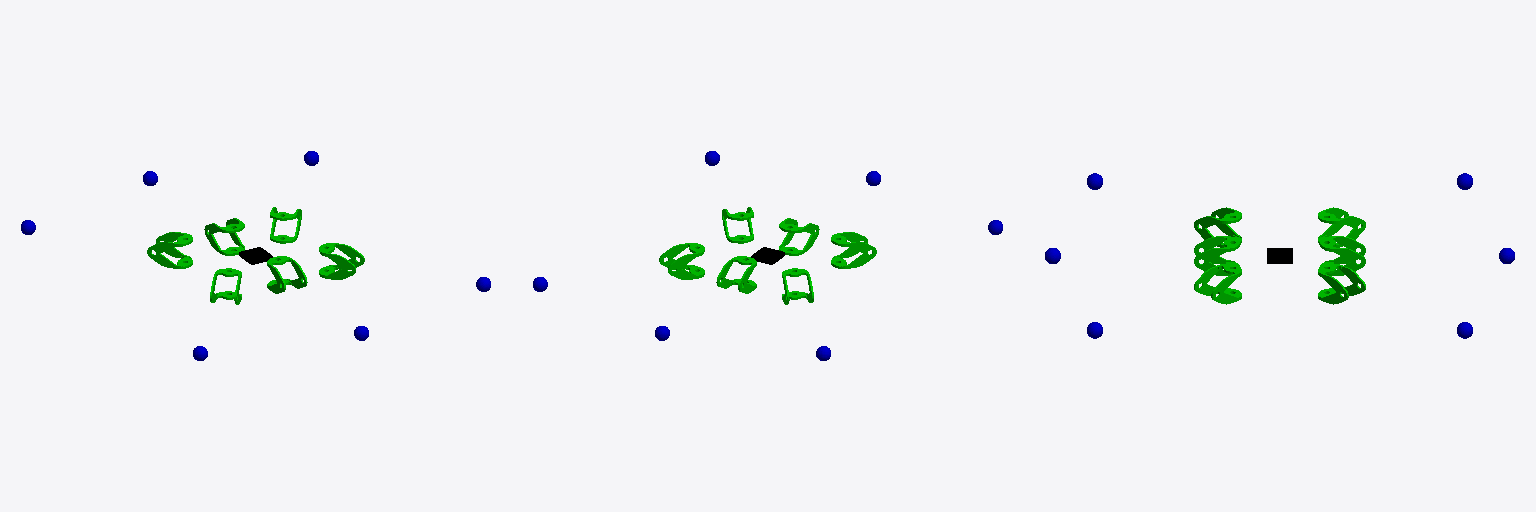
--- Render facts (derived) ---
Views: 3 orthographic renders of the robot side by side, from view 1: azimuth 30°, elevation 25°; view 2: azimuth 150°, elevation 25°; view 3: azimuth 270°, elevation 25°.
Robot: corin — 27 links, 26 joints (19 revolute, 7 fixed); root link world; default pose: every joint at zero.
Visible links, largest first — view 1: lr_hipassembly, rf_hipassembly, rm_hipassembly, lm_hipassembly, lf_hipassembly, rr_hipassembly; view 2: lf_hipassembly, rr_hipassembly, lm_hipassembly, rm_hipassembly, lr_hipassembly, rf_hipassembly; view 3: lf_hipassembly, rf_hipassembly, lm_hipassembly, rm_hipassembly, lr_hipassembly, rr_hipassembly.
Boxes of the visible links, x1,y1,x2,y2 form: lr_hipassembly: [147, 232, 192, 268]; rf_hipassembly: [319, 243, 364, 279]; rm_hipassembly: [267, 256, 307, 293]; lm_hipassembly: [204, 218, 244, 255]; lf_hipassembly: [270, 207, 301, 243]; rr_hipassembly: [210, 268, 241, 304]; lf_hipassembly: [659, 243, 704, 279]; rr_hipassembly: [831, 232, 876, 268]; lm_hipassembly: [716, 256, 756, 293]; rm_hipassembly: [779, 218, 819, 255]; lr_hipassembly: [782, 268, 813, 304]; rf_hipassembly: [722, 207, 753, 243]; lf_hipassembly: [1318, 263, 1365, 304]; rf_hipassembly: [1194, 263, 1241, 304]; lm_hipassembly: [1320, 236, 1365, 275]; rm_hipassembly: [1194, 236, 1239, 275]; lr_hipassembly: [1318, 207, 1365, 247]; rr_hipassembly: [1194, 207, 1241, 247].
Bounding box of the posed robot: 0.7041 × 0.9 × 0.057 m (x, y, z).
6 mesh visuals loaded from 4 distinct referenced files (1 binary STL); not drawn: 13 (reference not matched to a file when rendering).

The robot description file, URDF, robot "corin":
<?xml version="1.0" ?>
<!-- =================================================================================== -->
<!-- |    This document was autogenerated by xacro from mCorin_fixed.urdf.xacro        | -->
<!-- |    EDITING THIS FILE BY HAND IS NOT RECOMMENDED                                 | -->
<!-- =================================================================================== -->
<robot name="corin" xmlns:xacro="http://www.ros.org/wiki/xacro">
  <!-- 160.5 -->
  <!-- Rectangular box: m*(a^2 + b^2)/12 -->
  <material name="black">
    <color rgba="0.0 0.0 0.0 1.0"/>
  </material>
  <material name="blue">
    <color rgba="0.0 0.0 0.8 1.0"/>
  </material>
  <material name="brown">
    <color rgba="0.870588235294 0.811764705882 0.764705882353 1.0"/>
  </material>
  <material name="colli">
    <color rgba="1.0 0.423529411765 0.0392156862745 0.7"/>
  </material>
  <material name="green">
    <color rgba="0.0 0.8 0.0 1.0"/>
  </material>
  <material name="grey">
    <color rgba="0.2 0.2 0.2 1.0"/>
  </material>
  <material name="grey1">
    <color rgba="0.878431372549 0.878431372549 0.878431372549 1.0"/>
  </material>
  <material name="orange">
    <color rgba="1.0 0.423529411765 0.0392156862745 1.0"/>
  </material>
  <material name="red">
    <color rgba="0.8 0.0 0.0 1.0"/>
  </material>
  <material name="transparent">
    <color rgba="0 0 0 0"/>
  </material>
  <material name="turquoise">
    <color rgba="0 0.807843137255 0.819607843137 1.0"/>
  </material>
  <material name="white">
    <color rgba="1.0 1.0 1.0 1.0"/>
  </material>
  <material name="yellow">
    <color rgba="1 1 0 1"/>
  </material>
  <link name="world"/>
  <!-- ================================ Trunk ================================ -->
  <!-- #############  Laser Sensor  ############# -->
  <!-- Noise parameters based on published spec for Hokuyo laser achieving "+-30mm" accuracy at range < 10m. -->
  <!-- A mean of 0.0m and stddev of 0.01m will put 99.7% of samples within 0.03m of the true reading. -->
  <gazebo>
    <plugin filename="libgazebo_ros_control.so" name="gazebo_ros_control">
      <robotNamespace>/corin</robotNamespace>
    </plugin>
    <plugin filename="libgazebo_ros_p3d.so" name="gazebo_ros_p3d">
      <robotNamespace>/corin</robotNamespace>
      <bodyName>trunk</bodyName>
      <topicName>ground_truth</topicName>
      <frameName>world</frameName>
      <xyzOffsets>0 0 0</xyzOffsets>
      <rpyOffsets>0 0 0</rpyOffsets>
      <gaussianNoise>0</gaussianNoise>
      <alwaysOn>true</alwaysOn>
      <updateRate>250.0</updateRate>
    </plugin>
  </gazebo>
  <!-- Now we can start using the macros included above to define the mcorin -->
  <!-- The first use of a macro. This one was defined in trunk.urdf.xacro above.
A macro like this will expand to a set of link and joint definitions, and to additional
Gazebo-related extensions (sensor plugins, etc). The macro takes an argument, name,
that equals "base", and uses it to generate names for its component links and joints
(e.g., base_link). The included origin block is also an argument to the macro. By convention,
the origin block defines where the component is w.r.t its parent (in this case the parent
is the world frame). For more, see http://www.ros.org/wiki/xacro -->
  <!-- Floating-base Joint -->
  <joint name="base_qx_joint" type="revolute">
    <axis xyz="1 0 0"/>
    <origin rpy="0 0 0" xyz="0 0 0.15"/>
    <limit effort="30." lower="-0.001" upper="0.001" velocity="2.0"/>
    <dynamics damping="0.3" friction="0"/>
    <parent link="world"/>
    <child link="trunk"/>
  </joint>
  <!-- Trunk link -->
  <link name="trunk">
    <inertial>
      <origin xyz="0.0 0.0 0.0"/>
      <mass value="1.58"/>
      <inertia ixx="0.00491116666667" ixy="0.0" ixz="0.0" iyy="0.00761033333333" iyz="0.0" izz="0.0112311666667"/>
    </inertial>
    <visual>
      <geometry>
        <mesh filename="package://mcorin_description/meshes/Body.STL" scale="1 1 1"/>
      </geometry>
      <material name="orange"/>
    </visual>
    <collision>
      <geometry>
        <mesh filename="package://mcorin_description/meshes/Body_collision.STL" scale="1 1 1"/>
      </geometry>
      <material name="colli"/>
    </collision>
  </link>
  <gazebo reference="trunk">
    <mu1>1.5</mu1>
    <mu2>1.5</mu2>
    <material>Gazebo/DarkGrey</material>
  </gazebo>
  <transmission name="base_qx_trans">
    <type>transmission_interface/SimpleTransmission</type>
    <joint name="base_qx_joint">
      <hardwareInterface>EffortJointInterface</hardwareInterface>
    </joint>
    <actuator name="base_qx_motor">
      <hardwareInterface>EffortJointInterface</hardwareInterface>
      <mechanicalReduction>200</mechanicalReduction>
    </actuator>
  </transmission>
  <gazebo reference="base_qx_joint">
    <provideFeedback>true</provideFeedback>
  </gazebo>
  <!-- Joints -->
  <!-- Coxa joint -->
  <joint name="lf_q1_joint" type="revolute">
    <origin rpy="0 0 0.872664625997" xyz="0.115 0.09 0"/>
    <parent link="trunk"/>
    <child link="lf_hipassembly"/>
    <axis xyz="0 0 1"/>
    <limit effort="2.85" lower="-1.0" upper="1.0" velocity="5.23"/>
    <dynamics damping="0.15" friction="0"/>
    <!-- <safety_controller k_position="100" k_velocity="100"
							   soft_lower_limit="${-7*PI/18}" soft_upper_limit="${5*PI/36}" /> -->
  </joint>
  <!-- Upper leg joint -->
  <joint name="lf_q2_joint" type="revolute">
    <origin rpy="1.57079632679 0 0" xyz="0.06 0 0"/>
    <parent link="lf_hipassembly"/>
    <child link="lf_upperleg"/>
    <axis xyz="0 0 1"/>
    <limit effort="2.85" lower="-2.22" upper="2.22" velocity="5.23"/>
    <dynamics damping="0.15" friction="0"/>
    <!-- <safety_controller k_position="100" k_velocity="100"
							   soft_lower_limit="${-(1+reflect_front)*5*PI/36-(1-reflect_front)*7*PI/36}"
							   soft_upper_limit="${(1-reflect_front)*5*PI/36+(1+reflect_front)*7*PI/36}" /> -->
  </joint>
  <!-- Lower leg joint -->
  <joint name="lf_q3_joint" type="revolute">
    <origin rpy="0 0 0" xyz="0.15 0 0"/>
    <parent link="lf_upperleg"/>
    <child link="lf_lowerleg"/>
    <axis xyz="0 0 1"/>
    <limit effort="2.85" lower="-2.79" upper="2.79" velocity="5.23"/>
    <dynamics damping="0.15" friction="0"/>
    <!-- <safety_controller k_position="100" k_velocity="100"
							   soft_lower_limit="${-(1+reflect_front)*7*PI/18+(1-reflect_front)*PI/18}"
							   soft_upper_limit="${(1-reflect_front)*7*PI/18-(1+reflect_front)*PI/18}" /> -->
  </joint>
  <!-- Foot joint -->
  <joint name="lf_foot_joint" type="fixed">
    <origin rpy="0 0 0" xyz="0.134 0 0"/>
    <parent link="lf_lowerleg"/>
    <child link="lf_foot"/>
  </joint>
  <!-- Links -->
  <!-- Hip assembly link -->
  <link name="lf_hipassembly">
    <visual>
      <origin rpy="0 0 0" xyz="0 0 0"/>
      <geometry>
        <mesh filename="package://mcorin_description/meshes/Coxa.STL" scale="1 1 1"/>
      </geometry>
      <material name="green"/>
    </visual>
    <collision>
      <origin rpy="0 0 0" xyz="0 0 0"/>
      <geometry>
        <mesh filename="package://mcorin_description/meshes/Coxa_collision.STL" scale="1 1 1"/>
      </geometry>
      <material name="orange"/>
    </collision>
    <inertial>
      <origin xyz="0.02471 0 0"/>
      <mass value="0.0406"/>
      <inertia ixx="3.8e-05" ixy="0.0" ixz="0.0" iyy="3.8e-05" iyz="0.0" izz="4e-05"/>
    </inertial>
  </link>
  <!-- Upper leg link -->
  <link name="lf_upperleg">
    <visual>
      <geometry>
        <mesh filename="package://mcorin_description/meshes/Femur.STL" scale="1 1 1"/>
      </geometry>
      <origin rpy="0 0 0" xyz="0 0 0"/>
      <material name="blue"/>
    </visual>
    <collision>
      <geometry>
        <box size="0.15 0.04 0.04"/>
      </geometry>
      <origin rpy="0 0 0" xyz="0.075 0 0"/>
      <material name="colli"/>
    </collision>
    <inertial>
      <mass value="0.35"/>
      <inertia ixx="1.4e-05" ixy="0" ixz="0" iyy="4.7e-05" iyz="0" izz="5.1e-05"/>
      <origin xyz="0.075 0 0"/>
    </inertial>
  </link>
  <!-- Lower leg link -->
  <link name="lf_lowerleg">
    <visual>
      <geometry>
        <mesh filename="package://mcorin_description/meshes/Tibia.STL" scale="1 1 1"/>
      </geometry>
      <origin rpy="1.57079632679 0 0" xyz="0 0 0"/>
      <material name="yellow"/>
    </visual>
    <collision>
      <geometry>
        <mesh filename="package://mcorin_description/meshes/Tibia_collision.STL" scale="1 1 1"/>
        <!-- <box size= "${tibia_cl} ${tibia_d} ${tibia_w}"/> -->
      </geometry>
      <origin rpy="1.57079632679 0 0" xyz="0.0 0 0"/>
      <material name="colli"/>
    </collision>
    <inertial>
      <mass value="0.076"/>
      <inertia ixx="2.5e-05" ixy="0" ixz="0" iyy="0.000105" iyz="0" izz="0.000117"/>
      <origin xyz="0.0887 0 0"/>
    </inertial>
  </link>
  <!-- Foot link -->
  <link name="lf_foot">
    <visual>
      <geometry>
        <sphere radius="0.016"/>
      </geometry>
      <origin rpy="0 0 0" xyz="0 0 0"/>
      <material name="blue"/>
    </visual>
    <collision>
      <geometry>
        <sphere radius="0.016"/>
      </geometry>
      <origin rpy="0 0 0" xyz="0 0 0"/>
      <material name="colli"/>
    </collision>
    <inertial>
      <mass value="0.04"/>
      <inertia ixx="4e-06" ixy="0" ixz="0" iyy="4e-06" iyz="0" izz="4e-06"/>
      <origin xyz="0 0 0"/>
    </inertial>
  </link>
  <!-- Hip assembly -->
  <transmission name="lf_q1_trans">
    <type>transmission_interface/SimpleTransmission</type>
    <joint name="lf_q1_joint">
      <hardwareInterface>EffortJointInterface</hardwareInterface>
    </joint>
    <actuator name="lf_q1_motor">
      <hardwareInterface>EffortJointInterface</hardwareInterface>
      <mechanicalReduction>200</mechanicalReduction>
    </actuator>
  </transmission>
  <!-- Upper leg -->
  <transmission name="lf_q2_trans">
    <type>transmission_interface/SimpleTransmission</type>
    <joint name="lf_q2_joint">
      <hardwareInterface>EffortJointInterface</hardwareInterface>
    </joint>
    <actuator name="lf_q2_motor">
      <hardwareInterface>EffortJointInterface</hardwareInterface>
      <mechanicalReduction>200</mechanicalReduction>
    </actuator>
  </transmission>
  <!-- Lower leg -->
  <transmission name="lf_q3_trans">
    <type>transmission_interface/SimpleTransmission</type>
    <joint name="lf_q3_joint">
      <hardwareInterface>EffortJointInterface</hardwareInterface>
    </joint>
    <actuator name="lf_q3_motor">
      <hardwareInterface>EffortJointInterface</hardwareInterface>
      <mechanicalReduction>200</mechanicalReduction>
    </actuator>
  </transmission>
  <gazebo reference="lf_q1_joint">
    <provideFeedback>true</provideFeedback>
  </gazebo>
  <gazebo>
    <plugin filename="libgazebo_ros_ft_sensor.so" name="lf_q1_sensor">
      <robotNamespace>/corin/internal_wrench/</robotNamespace>
      <updateRate>100.0</updateRate>
      <topicName>lf_q1_joint</topicName>
      <jointName>lf_q1_joint</jointName>
    </plugin>
  </gazebo>
  <gazebo reference="lf_q2_joint">
    <provideFeedback>true</provideFeedback>
  </gazebo>
  <gazebo>
    <plugin filename="libgazebo_ros_ft_sensor.so" name="lf_q2_sensor">
      <robotNamespace>/corin/internal_wrench/</robotNamespace>
      <updateRate>100.0</updateRate>
      <topicName>lf_q2_joint</topicName>
      <jointName>lf_q2_joint</jointName>
    </plugin>
  </gazebo>
  <gazebo reference="lf_q3_joint">
    <provideFeedback>true</provideFeedback>
  </gazebo>
  <gazebo>
    <plugin filename="libgazebo_ros_ft_sensor.so" name="lf_q3_sensor">
      <robotNamespace>/corin/internal_wrench/</robotNamespace>
      <updateRate>100.0</updateRate>
      <topicName>lf_q3_joint</topicName>
      <jointName>lf_q3_joint</jointName>
    </plugin>
  </gazebo>
  <gazebo reference="lf_hipassembly">
    <kp>1000000.0</kp>
    <kd>100.0</kd>
    <mu1>1.5</mu1>
    <mu2>1.5</mu2>
    <!-- <fdir1>1 0 0</fdir1> -->
    <maxVel>0.001</maxVel>
    <minDepth>0.00</minDepth>
    <material>Gazebo/White</material>
  </gazebo>
  <gazebo reference="lf_upperleg">
    <kp>1000000.0</kp>
    <kd>100.0</kd>
    <mu1>1.5</mu1>
    <mu2>1.5</mu2>
    <!-- <fdir1>1 0 0</fdir1> -->
    <maxVel>0.001</maxVel>
    <minDepth>0.00</minDepth>
    <material>Gazebo/DarkGrey</material>
  </gazebo>
  <gazebo reference="lf_lowerleg">
    <kp>1000000.0</kp>
    <kd>100.0</kd>
    <mu1>1.5</mu1>
    <mu2>1.5</mu2>
    <!-- <fdir1>1 0 0</fdir1> -->
    <maxVel>0.001</maxVel>
    <minDepth>0.00</minDepth>
    <material>Gazebo/White</material>
  </gazebo>
  <gazebo reference="lf_foot">
    <kp>1000000.0</kp>
    <kd>100.0</kd>
    <mu1>1.5</mu1>
    <mu2>1.5</mu2>
    <!-- <fdir1>1 0 0</fdir1> -->
    <maxVel>0.001</maxVel>
    <minDepth>0.00</minDepth>
    <material>Gazebo/Black</material>
  </gazebo>
  <gazebo reference="lf_foot">
    <!-- contact sensor -->
    <sensor name="foot_contact" type="contact">
      <update_rate>100.0</update_rate>
      <always_on>1</always_on>
      <contact>
        <collision>lf_lowerleg_fixed_joint_lump__lf_foot_collision_1</collision>
        <topic>/lf_foot_contact</topic>
      </contact>
      <plugin filename="libgazebo_ros_bumper.so" name="fixed_jaw_bumper">
        <bumperTopicName>/corin/foot_wrench/lf</bumperTopicName>
        <frameName>lf_foot</frameName>
      </plugin>
    </sensor>
  </gazebo>
  <!-- Joints -->
  <!-- Coxa joint -->
  <joint name="lm_q1_joint" type="revolute">
    <origin rpy="0 0 1.57079632679" xyz="0 0.09 0"/>
    <parent link="trunk"/>
    <child link="lm_hipassembly"/>
    <axis xyz="0 0 1"/>
    <limit effort="2.85" lower="-1.0" upper="1.0" velocity="5.23"/>
    <dynamics damping="0.15" friction="0"/>
    <!-- <safety_controller k_position="100" k_velocity="100"
							   soft_lower_limit="${-7*PI/18}" soft_upper_limit="${5*PI/36}" /> -->
  </joint>
  <!-- Upper leg joint -->
  <joint name="lm_q2_joint" type="revolute">
    <origin rpy="1.57079632679 0 0" xyz="0.06 0 0"/>
    <parent link="lm_hipassembly"/>
    <child link="lm_upperleg"/>
    <axis xyz="0 0 1"/>
    <limit effort="2.85" lower="-2.22" upper="2.22" velocity="5.23"/>
    <dynamics damping="0.15" friction="0"/>
    <!-- <safety_controller k_position="100" k_velocity="100"
							   soft_lower_limit="${-(1+reflect_front)*5*PI/36-(1-reflect_front)*7*PI/36}"
							   soft_upper_limit="${(1-reflect_front)*5*PI/36+(1+reflect_front)*7*PI/36}" /> -->
  </joint>
  <!-- Lower leg joint -->
  <joint name="lm_q3_joint" type="revolute">
    <origin rpy="0 0 0" xyz="0.15 0 0"/>
    <parent link="lm_upperleg"/>
    <child link="lm_lowerleg"/>
    <axis xyz="0 0 1"/>
    <limit effort="2.85" lower="-2.79" upper="2.79" velocity="5.23"/>
    <dynamics damping="0.15" friction="0"/>
    <!-- <safety_controller k_position="100" k_velocity="100"
							   soft_lower_limit="${-(1+reflect_front)*7*PI/18+(1-reflect_front)*PI/18}"
							   soft_upper_limit="${(1-reflect_front)*7*PI/18-(1+reflect_front)*PI/18}" /> -->
  </joint>
  <!-- Foot joint -->
  <joint name="lm_foot_joint" type="fixed">
    <origin rpy="0 0 0" xyz="0.134 0 0"/>
    <parent link="lm_lowerleg"/>
    <child link="lm_foot"/>
  </joint>
  <!-- Links -->
  <!-- Hip assembly link -->
  <link name="lm_hipassembly">
    <visual>
      <origin rpy="0 0 0" xyz="0 0 0"/>
      <geometry>
        <mesh filename="package://mcorin_description/meshes/Coxa.STL" scale="1 1 1"/>
      </geometry>
      <material name="green"/>
    </visual>
    <collision>
      <origin rpy="0 0 0" xyz="0 0 0"/>
      <geometry>
        <mesh filename="package://mcorin_description/meshes/Coxa_collision.STL" scale="1 1 1"/>
      </geometry>
      <material name="orange"/>
    </collision>
    <inertial>
      <origin xyz="0.02471 0 0"/>
      <mass value="0.0406"/>
      <inertia ixx="3.8e-05" ixy="0.0" ixz="0.0" iyy="3.8e-05" iyz="0.0" izz="4e-05"/>
    </inertial>
  </link>
  <!-- Upper leg link -->
  <link name="lm_upperleg">
    <visual>
      <geometry>
        <mesh filename="package://mcorin_description/meshes/Femur.STL" scale="1 1 1"/>
      </geometry>
      <origin rpy="0 0 0" xyz="0 0 0"/>
      <material name="blue"/>
    </visual>
    <collision>
      <geometry>
        <box size="0.15 0.04 0.04"/>
      </geometry>
      <origin rpy="0 0 0" xyz="0.075 0 0"/>
      <material name="colli"/>
    </collision>
    <inertial>
      <mass value="0.35"/>
      <inertia ixx="1.4e-05" ixy="0" ixz="0" iyy="4.7e-05" iyz="0" izz="5.1e-05"/>
      <origin xyz="0.075 0 0"/>
    </inertial>
  </link>
  <!-- Lower leg link -->
  <link name="lm_lowerleg">
    <visual>
      <geometry>
        <mesh filename="package://mcorin_description/meshes/Tibia.STL" scale="1 1 1"/>
      </geometry>
      <origin rpy="1.57079632679 0 0" xyz="0 0 0"/>
      <material name="yellow"/>
    </visual>
    <collision>
      <geometry>
        <mesh filename="package://mcorin_description/meshes/Tibia_collision.STL" scale="1 1 1"/>
        <!-- <box size= "${tibia_cl} ${tibia_d} ${tibia_w}"/> -->
      </geometry>
      <origin rpy="1.57079632679 0 0" xyz="0.0 0 0"/>
      <material name="colli"/>
    </collision>
    <inertial>
      <mass value="0.076"/>
      <inertia ixx="2.5e-05" ixy="0" ixz="0" iyy="0.000105" iyz="0" izz="0.000117"/>
      <origin xyz="0.0887 0 0"/>
    </inertial>
  </link>
  <!-- Foot link -->
  <link name="lm_foot">
    <visual>
      <geometry>
        <sphere radius="0.016"/>
      </geometry>
      <origin rpy="0 0 0" xyz="0 0 0"/>
      <material name="blue"/>
    </visual>
    <collision>
      <geometry>
        <sphere radius="0.016"/>
      </geometry>
      <origin rpy="0 0 0" xyz="0 0 0"/>
      <material name="colli"/>
    </collision>
    <inertial>
      <mass value="0.04"/>
      <inertia ixx="4e-06" ixy="0" ixz="0" iyy="4e-06" iyz="0" izz="4e-06"/>
      <origin xyz="0 0 0"/>
    </inertial>
  </link>
  <!-- Hip assembly -->
  <transmission name="lm_q1_trans">
    <type>transmission_interface/SimpleTransmission</type>
    <joint name="lm_q1_joint">
      <hardwareInterface>EffortJointInterface</hardwareInterface>
    </joint>
    <actuator name="lm_q1_motor">
      <hardwareInterface>EffortJointInterface</hardwareInterface>
      <mechanicalReduction>200</mechanicalReduction>
    </actuator>
  </transmission>
  <!-- Upper leg -->
  <transmission name="lm_q2_trans">
    <type>transmission_interface/SimpleTransmission</type>
    <joint name="lm_q2_joint">
      <hardwareInterface>EffortJointInterface</hardwareInterface>
    </joint>
    <actuator name="lm_q2_motor">
      <hardwareInterface>EffortJointInterface</hardwareInterface>
      <mechanicalReduction>200</mechanicalReduction>
    </actuator>
  </transmission>
  <!-- Lower leg -->
  <transmission name="lm_q3_trans">
    <type>transmission_interface/SimpleTransmission</type>
    <joint name="lm_q3_joint">
      <hardwareInterface>EffortJointInterface</hardwareInterface>
    </joint>
    <actuator name="lm_q3_motor">
      <hardwareInterface>EffortJointInterface</hardwareInterface>
      <mechanicalReduction>200</mechanicalReduction>
    </actuator>
  </transmission>
  <gazebo reference="lm_q1_joint">
    <provideFeedback>true</provideFeedback>
  </gazebo>
  <gazebo reference="lm_q2_joint">
    <provideFeedback>true</provideFeedback>
  </gazebo>
  <gazebo reference="lm_q3_joint">
    <provideFeedback>true</provideFeedback>
  </gazebo>
  <gazebo reference="lm_hipassembly">
    <kp>1000000.0</kp>
    <kd>100.0</kd>
    <mu1>1.5</mu1>
    <mu2>1.5</mu2>
    <!-- <fdir1>1 0 0</fdir1> -->
    <maxVel>0.001</maxVel>
    <minDepth>0.00</minDepth>
    <material>Gazebo/White</material>
  </gazebo>
  <gazebo reference="lm_upperleg">
    <kp>1000000.0</kp>
    <kd>100.0</kd>
    <mu1>1.5</mu1>
    <mu2>1.5</mu2>
    <!-- <fdir1>1 0 0</fdir1> -->
    <maxVel>0.001</maxVel>
    <minDepth>0.00</minDepth>
    <material>Gazebo/DarkGrey</material>
  </gazebo>
  <gazebo reference="lm_lowerleg">
    <kp>1000000.0</kp>
    <kd>100.0</kd>
    <mu1>1.5</mu1>
    <mu2>1.5</mu2>
    <!-- <fdir1>1 0 0</fdir1> -->
    <maxVel>0.001</maxVel>
    <minDepth>0.00</minDepth>
    <material>Gazebo/White</material>
  </gazebo>
  <gazebo reference="lm_foot">
    <kp>1000000.0</kp>
    <kd>100.0</kd>
    <mu1>1.5</mu1>
    <mu2>1.5</mu2>
    <!-- <fdir1>1 0 0</fdir1> -->
    <maxVel>0.001</maxVel>
    <minDepth>0.00</minDepth>
    <material>Gazebo/Black</material>
  </gazebo>
  <gazebo reference="lm_foot">
    <!-- contact sensor -->
    <sensor name="foot_contact" type="contact">
      <update_rate>100.0</update_rate>
      <always_on>1</always_on>
      <contact>
        <collision>lm_lowerleg_fixed_joint_lump__lm_foot_collision_1</collision>
        <topic>/lm_foot_contact</topic>
      </contact>
      <plugin filename="libgazebo_ros_bumper.so" name="fixed_jaw_bumper">
        <bumperTopicName>/corin/foot_wrench/lm</bumperTopicName>
        <frameName>lm_foot</frameName>
      </plugin>
    </sensor>
  </gazebo>
  <!-- Joints -->
  <!-- Coxa joint -->
  <joint name="lr_q1_joint" type="revolute">
    <origin rpy="0 0 2.26892802759" xyz="-0.115 0.09 0"/>
    <parent link="trunk"/>
    <child link="lr_hipassembly"/>
    <axis xyz="0 0 1"/>
    <limit effort="2.85" lower="-1.0" upper="1.0" velocity="5.23"/>
    <dynamics damping="0.15" friction="0"/>
    <!-- <safety_controller k_position="100" k_velocity="100"
							   soft_lower_limit="${-7*PI/18}" soft_upper_limit="${5*PI/36}" /> -->
  </joint>
  <!-- Upper leg joint -->
  <joint name="lr_q2_joint" type="revolute">
    <origin rpy="1.57079632679 0 0" xyz="0.06 0 0"/>
    <parent link="lr_hipassembly"/>
    <child link="lr_upperleg"/>
    <axis xyz="0 0 1"/>
    <limit effort="2.85" lower="-2.22" upper="2.22" velocity="5.23"/>
    <dynamics damping="0.15" friction="0"/>
    <!-- <safety_controller k_position="100" k_velocity="100"
							   soft_lower_limit="${-(1+reflect_front)*5*PI/36-(1-reflect_front)*7*PI/36}"
							   soft_upper_limit="${(1-reflect_front)*5*PI/36+(1+reflect_front)*7*PI/36}" /> -->
  </joint>
  <!-- Lower leg joint -->
  <joint name="lr_q3_joint" type="revolute">
    <origin rpy="0 0 0" xyz="0.15 0 0"/>
    <parent link="lr_upperleg"/>
    <child link="lr_lowerleg"/>
    <axis xyz="0 0 1"/>
    <limit effort="2.85" lower="-2.79" upper="2.79" velocity="5.23"/>
    <dynamics damping="0.15" friction="0"/>
    <!-- <safety_controller k_position="100" k_velocity="100"
							   soft_lower_limit="${-(1+reflect_front)*7*PI/18+(1-reflect_front)*PI/18}"
							   soft_upper_limit="${(1-reflect_front)*7*PI/18-(1+reflect_front)*PI/18}" /> -->
  </joint>
  <!-- Foot joint -->
  <joint name="lr_foot_joint" type="fixed">
    <origin rpy="0 0 0" xyz="0.134 0 0"/>
    <parent link="lr_lowerleg"/>
    <child link="lr_foot"/>
  </joint>
  <!-- Links -->
  <!-- Hip assembly link -->
  <link name="lr_hipassembly">
    <visual>
      <origin rpy="0 0 0" xyz="0 0 0"/>
      <geometry>
        <mesh filename="package://mcorin_description/meshes/Coxa.STL" scale="1 1 1"/>
      </geometry>
      <material name="green"/>
    </visual>
    <collision>
      <origin rpy="0 0 0" xyz="0 0 0"/>
      <geometry>
        <mesh filename="package://mcorin_description/meshes/Coxa_collision.STL" scale="1 1 1"/>
      </geometry>
      <material name="orange"/>
    </collision>
    <inertial>
      <origin xyz="0.02471 0 0"/>
      <mass value="0.0406"/>
      <inertia ixx="3.8e-05" ixy="0.0" ixz="0.0" iyy="3.8e-05" iyz="0.0" izz="4e-05"/>
    </inertial>
  </link>
  <!-- Upper leg link -->
  <link name="lr_upperleg">
    <visual>
      <geometry>
        <mesh filename="package://mcorin_description/meshes/Femur.STL" scale="1 1 1"/>
      </geometry>
      <origin rpy="0 0 0" xyz="0 0 0"/>
      <material name="blue"/>
    </visual>
    <collision>
      <geometry>
        <box size="0.15 0.04 0.04"/>
      </geometry>
      <origin rpy="0 0 0" xyz="0.075 0 0"/>
      <material name="colli"/>
    </collision>
    <inertial>
      <mass value="0.35"/>
      <inertia ixx="1.4e-05" ixy="0" ixz="0" iyy="4.7e-05" iyz="0" izz="5.1e-05"/>
      <origin xyz="0.075 0 0"/>
    </inertial>
  </link>
  <!-- Lower leg link -->
  <link name="lr_lowerleg">
    <visual>
      <geometry>
        <mesh filename="package://mcorin_description/meshes/Tibia.STL" scale="1 1 1"/>
      </geometry>
      <origin rpy="1.57079632679 0 0" xyz="0 0 0"/>
      <material name="yellow"/>
    </visual>
    <collision>
      <geometry>
        <mesh filename="package://mcorin_description/meshes/Tibia_collision.STL" scale="1 1 1"/>
        <!-- <box size= "${tibia_cl} ${tibia_d} ${tibia_w}"/> -->
      </geometry>
      <origin rpy="1.57079632679 0 0" xyz="0.0 0 0"/>
      <material name="colli"/>
    </collision>
    <inertial>
      <mass value="0.076"/>
      <inertia ixx="2.5e-05" ixy="0" ixz="0" iyy="0.000105" iyz="0" izz="0.000117"/>
      <origin xyz="0.0887 0 0"/>
    </inertial>
  </link>
  <!-- Foot link -->
  <link name="lr_foot">
    <visual>
      <geometry>
        <sphere radius="0.016"/>
      </geometry>
      <origin rpy="0 0 0" xyz="0 0 0"/>
      <material name="blue"/>
    </visual>
    <collision>
      <geometry>
        <sphere radius="0.016"/>
      </geometry>
      <origin rpy="0 0 0" xyz="0 0 0"/>
      <material name="colli"/>
    </collision>
    <inertial>
      <mass value="0.04"/>
      <inertia ixx="4e-06" ixy="0" ixz="0" iyy="4e-06" iyz="0" izz="4e-06"/>
      <origin xyz="0 0 0"/>
    </inertial>
  </link>
  <!-- Hip assembly -->
  <transmission name="lr_q1_trans">
    <type>transmission_interface/SimpleTransmission</type>
    <joint name="lr_q1_joint">
      <hardwareInterface>EffortJointInterface</hardwareInterface>
    </joint>
    <actuator name="lr_q1_motor">
      <hardwareInterface>EffortJointInterface</hardwareInterface>
      <mechanicalReduction>200</mechanicalReduction>
    </actuator>
  </transmission>
  <!-- Upper leg -->
  <transmission name="lr_q2_trans">
    <type>transmission_interface/SimpleTransmission</type>
    <joint name="lr_q2_joint">
      <hardwareInterface>EffortJointInterface</hardwareInterface>
    </joint>
    <actuator name="lr_q2_motor">
      <hardwareInterface>EffortJointInterface</hardwareInterface>
      <mechanicalReduction>200</mechanicalReduction>
    </actuator>
  </transmission>
  <!-- Lower leg -->
  <transmission name="lr_q3_trans">
    <type>transmission_interface/SimpleTransmission</type>
    <joint name="lr_q3_joint">
      <hardwareInterface>EffortJointInterface</hardwareInterface>
    </joint>
    <actuator name="lr_q3_motor">
      <hardwareInterface>EffortJointInterface</hardwareInterface>
      <mechanicalReduction>200</mechanicalReduction>
    </actuator>
  </transmission>
  <gazebo reference="lr_q1_joint">
    <provideFeedback>true</provideFeedback>
  </gazebo>
  <gazebo reference="lr_q2_joint">
    <provideFeedback>true</provideFeedback>
  </gazebo>
  <gazebo reference="lr_q3_joint">
    <provideFeedback>true</provideFeedback>
  </gazebo>
  <gazebo reference="lr_hipassembly">
    <kp>1000000.0</kp>
    <kd>100.0</kd>
    <mu1>1.5</mu1>
    <mu2>1.5</mu2>
    <!-- <fdir1>1 0 0</fdir1> -->
    <maxVel>0.001</maxVel>
    <minDepth>0.00</minDepth>
    <material>Gazebo/White</material>
  </gazebo>
  <gazebo reference="lr_upperleg">
    <kp>1000000.0</kp>
    <kd>100.0</kd>
    <mu1>1.5</mu1>
    <mu2>1.5</mu2>
    <!-- <fdir1>1 0 0</fdir1> -->
    <maxVel>0.001</maxVel>
    <minDepth>0.00</minDepth>
    <material>Gazebo/DarkGrey</material>
  </gazebo>
  <gazebo reference="lr_lowerleg">
    <kp>1000000.0</kp>
    <kd>100.0</kd>
    <mu1>1.5</mu1>
    <mu2>1.5</mu2>
    <!-- <fdir1>1 0 0</fdir1> -->
    <maxVel>0.001</maxVel>
    <minDepth>0.00</minDepth>
    <material>Gazebo/White</material>
  </gazebo>
  <gazebo reference="lr_foot">
    <kp>1000000.0</kp>
    <kd>100.0</kd>
    <mu1>1.5</mu1>
    <mu2>1.5</mu2>
    <!-- <fdir1>1 0 0</fdir1> -->
    <maxVel>0.001</maxVel>
    <minDepth>0.00</minDepth>
    <material>Gazebo/Black</material>
  </gazebo>
  <gazebo reference="lr_foot">
    <!-- contact sensor -->
    <sensor name="foot_contact" type="contact">
      <update_rate>100.0</update_rate>
      <always_on>1</always_on>
      <contact>
        <collision>lr_lowerleg_fixed_joint_lump__lr_foot_collision_1</collision>
        <topic>/lr_foot_contact</topic>
      </contact>
      <plugin filename="libgazebo_ros_bumper.so" name="fixed_jaw_bumper">
        <bumperTopicName>/corin/foot_wrench/lr</bumperTopicName>
        <frameName>lr_foot</frameName>
      </plugin>
    </sensor>
  </gazebo>
  <!-- Joints -->
  <!-- Coxa joint -->
  <joint name="rf_q1_joint" type="revolute">
    <origin rpy="0 0 -0.872664625997" xyz="0.115 -0.09 0"/>
    <parent link="trunk"/>
    <child link="rf_hipassembly"/>
    <axis xyz="0 0 1"/>
    <limit effort="2.85" lower="-1.0" upper="1.0" velocity="5.23"/>
    <dynamics damping="0.15" friction="0"/>
    <!-- <safety_controller k_position="100" k_velocity="100"
							   soft_lower_limit="${-7*PI/18}" soft_upper_limit="${5*PI/36}" /> -->
  </joint>
  <!-- Upper leg joint -->
  <joint name="rf_q2_joint" type="revolute">
    <origin rpy="1.57079632679 0 0" xyz="0.06 0 0"/>
    <parent link="rf_hipassembly"/>
    <child link="rf_upperleg"/>
    <axis xyz="0 0 1"/>
    <limit effort="2.85" lower="-2.22" upper="2.22" velocity="5.23"/>
    <dynamics damping="0.15" friction="0"/>
    <!-- <safety_controller k_position="100" k_velocity="100"
							   soft_lower_limit="${-(1+reflect_front)*5*PI/36-(1-reflect_front)*7*PI/36}"
							   soft_upper_limit="${(1-reflect_front)*5*PI/36+(1+reflect_front)*7*PI/36}" /> -->
  </joint>
  <!-- Lower leg joint -->
  <joint name="rf_q3_joint" type="revolute">
    <origin rpy="0 0 0" xyz="0.15 0 0"/>
    <parent link="rf_upperleg"/>
    <child link="rf_lowerleg"/>
    <axis xyz="0 0 1"/>
    <limit effort="2.85" lower="-2.79" upper="2.79" velocity="5.23"/>
    <dynamics damping="0.15" friction="0"/>
    <!-- <safety_controller k_position="100" k_velocity="100"
							   soft_lower_limit="${-(1+reflect_front)*7*PI/18+(1-reflect_front)*PI/18}"
							   soft_upper_limit="${(1-reflect_front)*7*PI/18-(1+reflect_front)*PI/18}" /> -->
  </joint>
  <!-- Foot joint -->
  <joint name="rf_foot_joint" type="fixed">
    <origin rpy="0 0 0" xyz="0.134 0 0"/>
    <parent link="rf_lowerleg"/>
    <child link="rf_foot"/>
  </joint>
  <!-- Links -->
  <!-- Hip assembly link -->
  <link name="rf_hipassembly">
    <visual>
      <origin rpy="0 0 0" xyz="0 0 0"/>
      <geometry>
        <mesh filename="package://mcorin_description/meshes/Coxa.STL" scale="1 1 1"/>
      </geometry>
      <material name="green"/>
    </visual>
    <collision>
      <origin rpy="0 0 0" xyz="0 0 0"/>
      <geometry>
        <mesh filename="package://mcorin_description/meshes/Coxa_collision.STL" scale="1 1 1"/>
      </geometry>
      <material name="orange"/>
    </collision>
    <inertial>
      <origin xyz="0.02471 0 0"/>
      <mass value="0.0406"/>
      <inertia ixx="3.8e-05" ixy="0.0" ixz="0.0" iyy="3.8e-05" iyz="0.0" izz="4e-05"/>
    </inertial>
  </link>
  <!-- Upper leg link -->
  <link name="rf_upperleg">
    <visual>
      <geometry>
        <mesh filename="package://mcorin_description/meshes/Femur.STL" scale="1 1 1"/>
      </geometry>
      <origin rpy="0 0 0" xyz="0 0 0"/>
      <material name="blue"/>
    </visual>
    <collision>
      <geometry>
        <box size="0.15 0.04 0.04"/>
      </geometry>
      <origin rpy="0 0 0" xyz="0.075 0 0"/>
      <material name="colli"/>
    </collision>
    <inertial>
      <mass value="0.35"/>
      <inertia ixx="1.4e-05" ixy="0" ixz="0" iyy="4.7e-05" iyz="0" izz="5.1e-05"/>
      <origin xyz="0.075 0 0"/>
    </inertial>
  </link>
  <!-- Lower leg link -->
  <link name="rf_lowerleg">
    <visual>
      <geometry>
        <mesh filename="package://mcorin_description/meshes/Tibia.STL" scale="1 1 1"/>
      </geometry>
      <origin rpy="1.57079632679 0 0" xyz="0 0 0"/>
      <material name="yellow"/>
    </visual>
    <collision>
      <geometry>
        <mesh filename="package://mcorin_description/meshes/Tibia_collision.STL" scale="1 1 1"/>
        <!-- <box size= "${tibia_cl} ${tibia_d} ${tibia_w}"/> -->
      </geometry>
      <origin rpy="1.57079632679 0 0" xyz="0.0 0 0"/>
      <material name="colli"/>
    </collision>
    <inertial>
      <mass value="0.076"/>
      <inertia ixx="2.5e-05" ixy="0" ixz="0" iyy="0.000105" iyz="0" izz="0.000117"/>
      <origin xyz="0.0887 0 0"/>
    </inertial>
  </link>
  <!-- Foot link -->
  <link name="rf_foot">
    <visual>
      <geometry>
        <sphere radius="0.016"/>
      </geometry>
      <origin rpy="0 0 0" xyz="0 0 0"/>
      <material name="blue"/>
    </visual>
    <collision>
      <geometry>
        <sphere radius="0.016"/>
      </geometry>
      <origin rpy="0 0 0" xyz="0 0 0"/>
      <material name="colli"/>
    </collision>
    <inertial>
      <mass value="0.04"/>
      <inertia ixx="4e-06" ixy="0" ixz="0" iyy="4e-06" iyz="0" izz="4e-06"/>
      <origin xyz="0 0 0"/>
    </inertial>
  </link>
  <!-- Hip assembly -->
  <transmission name="rf_q1_trans">
    <type>transmission_interface/SimpleTransmission</type>
    <joint name="rf_q1_joint">
      <hardwareInterface>EffortJointInterface</hardwareInterface>
    </joint>
    <actuator name="rf_q1_motor">
      <hardwareInterface>EffortJointInterface</hardwareInterface>
      <mechanicalReduction>200</mechanicalReduction>
    </actuator>
  </transmission>
  <!-- Upper leg -->
  <transmission name="rf_q2_trans">
    <type>transmission_interface/SimpleTransmission</type>
    <joint name="rf_q2_joint">
      <hardwareInterface>EffortJointInterface</hardwareInterface>
    </joint>
    <actuator name="rf_q2_motor">
      <hardwareInterface>EffortJointInterface</hardwareInterface>
      <mechanicalReduction>200</mechanicalReduction>
    </actuator>
  </transmission>
  <!-- Lower leg -->
  <transmission name="rf_q3_trans">
    <type>transmission_interface/SimpleTransmission</type>
    <joint name="rf_q3_joint">
      <hardwareInterface>EffortJointInterface</hardwareInterface>
    </joint>
    <actuator name="rf_q3_motor">
      <hardwareInterface>EffortJointInterface</hardwareInterface>
      <mechanicalReduction>200</mechanicalReduction>
    </actuator>
  </transmission>
  <gazebo reference="rf_q1_joint">
    <provideFeedback>true</provideFeedback>
  </gazebo>
  <gazebo>
    <plugin filename="libgazebo_ros_ft_sensor.so" name="rf_q1_sensor">
      <robotNamespace>/corin/internal_wrench/</robotNamespace>
      <updateRate>100.0</updateRate>
      <topicName>rf_q1_joint</topicName>
      <jointName>rf_q1_joint</jointName>
    </plugin>
  </gazebo>
  <gazebo reference="rf_q2_joint">
    <provideFeedback>true</provideFeedback>
  </gazebo>
  <gazebo>
    <plugin filename="libgazebo_ros_ft_sensor.so" name="rf_q2_sensor">
      <robotNamespace>/corin/internal_wrench/</robotNamespace>
      <updateRate>100.0</updateRate>
      <topicName>rf_q2_joint</topicName>
      <jointName>rf_q2_joint</jointName>
    </plugin>
  </gazebo>
  <gazebo reference="rf_q3_joint">
    <provideFeedback>true</provideFeedback>
  </gazebo>
  <gazebo>
    <plugin filename="libgazebo_ros_ft_sensor.so" name="rf_q3_sensor">
      <robotNamespace>/corin/internal_wrench/</robotNamespace>
      <updateRate>100.0</updateRate>
      <topicName>rf_q3_joint</topicName>
      <jointName>rf_q3_joint</jointName>
    </plugin>
  </gazebo>
  <gazebo reference="rf_hipassembly">
    <kp>1000000.0</kp>
    <kd>100.0</kd>
    <mu1>1.5</mu1>
    <mu2>1.5</mu2>
    <!-- <fdir1>1 0 0</fdir1> -->
    <maxVel>0.001</maxVel>
    <minDepth>0.00</minDepth>
    <material>Gazebo/White</material>
  </gazebo>
  <gazebo reference="rf_upperleg">
    <kp>1000000.0</kp>
    <kd>100.0</kd>
    <mu1>1.5</mu1>
    <mu2>1.5</mu2>
    <!-- <fdir1>1 0 0</fdir1> -->
    <maxVel>0.001</maxVel>
    <minDepth>0.00</minDepth>
    <material>Gazebo/DarkGrey</material>
  </gazebo>
  <gazebo reference="rf_lowerleg">
    <kp>1000000.0</kp>
    <kd>100.0</kd>
    <mu1>1.5</mu1>
    <mu2>1.5</mu2>
    <!-- <fdir1>1 0 0</fdir1> -->
    <maxVel>0.001</maxVel>
    <minDepth>0.00</minDepth>
    <material>Gazebo/White</material>
  </gazebo>
  <gazebo reference="rf_foot">
    <kp>1000000.0</kp>
    <kd>100.0</kd>
    <mu1>1.5</mu1>
    <mu2>1.5</mu2>
    <!-- <fdir1>1 0 0</fdir1> -->
    <maxVel>0.001</maxVel>
    <minDepth>0.00</minDepth>
    <material>Gazebo/Black</material>
  </gazebo>
  <gazebo reference="rf_foot">
    <!-- contact sensor -->
    <sensor name="foot_contact" type="contact">
      <update_rate>100.0</update_rate>
      <always_on>1</always_on>
      <contact>
        <collision>rf_lowerleg_fixed_joint_lump__rf_foot_collision_1</collision>
        <topic>/rf_foot_contact</topic>
      </contact>
      <plugin filename="libgazebo_ros_bumper.so" name="fixed_jaw_bumper">
        <bumperTopicName>/corin/foot_wrench/rf</bumperTopicName>
        <frameName>rf_foot</frameName>
      </plugin>
    </sensor>
  </gazebo>
  <!-- Joints -->
  <!-- Coxa joint -->
  <joint name="rm_q1_joint" type="revolute">
    <origin rpy="0 0 -1.57079632679" xyz="0 -0.09 0"/>
    <parent link="trunk"/>
    <child link="rm_hipassembly"/>
    <axis xyz="0 0 1"/>
    <limit effort="2.85" lower="-1.0" upper="1.0" velocity="5.23"/>
    <dynamics damping="0.15" friction="0"/>
    <!-- <safety_controller k_position="100" k_velocity="100"
							   soft_lower_limit="${-7*PI/18}" soft_upper_limit="${5*PI/36}" /> -->
  </joint>
  <!-- Upper leg joint -->
  <joint name="rm_q2_joint" type="revolute">
    <origin rpy="1.57079632679 0 0" xyz="0.06 0 0"/>
    <parent link="rm_hipassembly"/>
    <child link="rm_upperleg"/>
    <axis xyz="0 0 1"/>
    <limit effort="2.85" lower="-2.22" upper="2.22" velocity="5.23"/>
    <dynamics damping="0.15" friction="0"/>
    <!-- <safety_controller k_position="100" k_velocity="100"
							   soft_lower_limit="${-(1+reflect_front)*5*PI/36-(1-reflect_front)*7*PI/36}"
							   soft_upper_limit="${(1-reflect_front)*5*PI/36+(1+reflect_front)*7*PI/36}" /> -->
  </joint>
  <!-- Lower leg joint -->
  <joint name="rm_q3_joint" type="revolute">
    <origin rpy="0 0 0" xyz="0.15 0 0"/>
    <parent link="rm_upperleg"/>
    <child link="rm_lowerleg"/>
    <axis xyz="0 0 1"/>
    <limit effort="2.85" lower="-2.79" upper="2.79" velocity="5.23"/>
    <dynamics damping="0.15" friction="0"/>
    <!-- <safety_controller k_position="100" k_velocity="100"
							   soft_lower_limit="${-(1+reflect_front)*7*PI/18+(1-reflect_front)*PI/18}"
							   soft_upper_limit="${(1-reflect_front)*7*PI/18-(1+reflect_front)*PI/18}" /> -->
  </joint>
  <!-- Foot joint -->
  <joint name="rm_foot_joint" type="fixed">
    <origin rpy="0 0 0" xyz="0.134 0 0"/>
    <parent link="rm_lowerleg"/>
    <child link="rm_foot"/>
  </joint>
  <!-- Links -->
  <!-- Hip assembly link -->
  <link name="rm_hipassembly">
    <visual>
      <origin rpy="0 0 0" xyz="0 0 0"/>
      <geometry>
        <mesh filename="package://mcorin_description/meshes/Coxa.STL" scale="1 1 1"/>
      </geometry>
      <material name="green"/>
    </visual>
    <collision>
      <origin rpy="0 0 0" xyz="0 0 0"/>
      <geometry>
        <mesh filename="package://mcorin_description/meshes/Coxa_collision.STL" scale="1 1 1"/>
      </geometry>
      <material name="orange"/>
    </collision>
    <inertial>
      <origin xyz="0.02471 0 0"/>
      <mass value="0.0406"/>
      <inertia ixx="3.8e-05" ixy="0.0" ixz="0.0" iyy="3.8e-05" iyz="0.0" izz="4e-05"/>
    </inertial>
  </link>
  <!-- Upper leg link -->
  <link name="rm_upperleg">
    <visual>
      <geometry>
        <mesh filename="package://mcorin_description/meshes/Femur.STL" scale="1 1 1"/>
      </geometry>
      <origin rpy="0 0 0" xyz="0 0 0"/>
      <material name="blue"/>
    </visual>
    <collision>
      <geometry>
        <box size="0.15 0.04 0.04"/>
      </geometry>
      <origin rpy="0 0 0" xyz="0.075 0 0"/>
      <material name="colli"/>
    </collision>
    <inertial>
      <mass value="0.35"/>
      <inertia ixx="1.4e-05" ixy="0" ixz="0" iyy="4.7e-05" iyz="0" izz="5.1e-05"/>
      <origin xyz="0.075 0 0"/>
    </inertial>
  </link>
  <!-- Lower leg link -->
  <link name="rm_lowerleg">
    <visual>
      <geometry>
        <mesh filename="package://mcorin_description/meshes/Tibia.STL" scale="1 1 1"/>
      </geometry>
      <origin rpy="1.57079632679 0 0" xyz="0 0 0"/>
      <material name="yellow"/>
    </visual>
    <collision>
      <geometry>
        <mesh filename="package://mcorin_description/meshes/Tibia_collision.STL" scale="1 1 1"/>
        <!-- <box size= "${tibia_cl} ${tibia_d} ${tibia_w}"/> -->
      </geometry>
      <origin rpy="1.57079632679 0 0" xyz="0.0 0 0"/>
      <material name="colli"/>
    </collision>
    <inertial>
      <mass value="0.076"/>
      <inertia ixx="2.5e-05" ixy="0" ixz="0" iyy="0.000105" iyz="0" izz="0.000117"/>
      <origin xyz="0.0887 0 0"/>
    </inertial>
  </link>
  <!-- Foot link -->
  <link name="rm_foot">
    <visual>
      <geometry>
        <sphere radius="0.016"/>
      </geometry>
      <origin rpy="0 0 0" xyz="0 0 0"/>
      <material name="blue"/>
    </visual>
    <collision>
      <geometry>
        <sphere radius="0.016"/>
      </geometry>
      <origin rpy="0 0 0" xyz="0 0 0"/>
      <material name="colli"/>
    </collision>
    <inertial>
      <mass value="0.04"/>
      <inertia ixx="4e-06" ixy="0" ixz="0" iyy="4e-06" iyz="0" izz="4e-06"/>
      <origin xyz="0 0 0"/>
    </inertial>
  </link>
  <!-- Hip assembly -->
  <transmission name="rm_q1_trans">
    <type>transmission_interface/SimpleTransmission</type>
    <joint name="rm_q1_joint">
      <hardwareInterface>EffortJointInterface</hardwareInterface>
    </joint>
    <actuator name="rm_q1_motor">
      <hardwareInterface>EffortJointInterface</hardwareInterface>
      <mechanicalReduction>200</mechanicalReduction>
    </actuator>
  </transmission>
  <!-- Upper leg -->
  <transmission name="rm_q2_trans">
    <type>transmission_interface/SimpleTransmission</type>
    <joint name="rm_q2_joint">
      <hardwareInterface>EffortJointInterface</hardwareInterface>
    </joint>
    <actuator name="rm_q2_motor">
      <hardwareInterface>EffortJointInterface</hardwareInterface>
      <mechanicalReduction>200</mechanicalReduction>
    </actuator>
  </transmission>
  <!-- Lower leg -->
  <transmission name="rm_q3_trans">
    <type>transmission_interface/SimpleTransmission</type>
    <joint name="rm_q3_joint">
      <hardwareInterface>EffortJointInterface</hardwareInterface>
    </joint>
    <actuator name="rm_q3_motor">
      <hardwareInterface>EffortJointInterface</hardwareInterface>
      <mechanicalReduction>200</mechanicalReduction>
    </actuator>
  </transmission>
  <gazebo reference="rm_q1_joint">
    <provideFeedback>true</provideFeedback>
  </gazebo>
  <gazebo reference="rm_q2_joint">
    <provideFeedback>true</provideFeedback>
  </gazebo>
  <gazebo reference="rm_q3_joint">
    <provideFeedback>true</provideFeedback>
  </gazebo>
  <gazebo reference="rm_hipassembly">
    <kp>1000000.0</kp>
    <kd>100.0</kd>
    <mu1>1.5</mu1>
    <mu2>1.5</mu2>
    <!-- <fdir1>1 0 0</fdir1> -->
    <maxVel>0.001</maxVel>
    <minDepth>0.00</minDepth>
    <material>Gazebo/White</material>
  </gazebo>
  <gazebo reference="rm_upperleg">
    <kp>1000000.0</kp>
    <kd>100.0</kd>
    <mu1>1.5</mu1>
    <mu2>1.5</mu2>
    <!-- <fdir1>1 0 0</fdir1> -->
    <maxVel>0.001</maxVel>
    <minDepth>0.00</minDepth>
    <material>Gazebo/DarkGrey</material>
  </gazebo>
  <gazebo reference="rm_lowerleg">
    <kp>1000000.0</kp>
    <kd>100.0</kd>
    <mu1>1.5</mu1>
    <mu2>1.5</mu2>
    <!-- <fdir1>1 0 0</fdir1> -->
    <maxVel>0.001</maxVel>
    <minDepth>0.00</minDepth>
    <material>Gazebo/White</material>
  </gazebo>
  <gazebo reference="rm_foot">
    <kp>1000000.0</kp>
    <kd>100.0</kd>
    <mu1>1.5</mu1>
    <mu2>1.5</mu2>
    <!-- <fdir1>1 0 0</fdir1> -->
    <maxVel>0.001</maxVel>
    <minDepth>0.00</minDepth>
    <material>Gazebo/Black</material>
  </gazebo>
  <gazebo reference="rm_foot">
    <!-- contact sensor -->
    <sensor name="foot_contact" type="contact">
      <update_rate>100.0</update_rate>
      <always_on>1</always_on>
      <contact>
        <collision>rm_lowerleg_fixed_joint_lump__rm_foot_collision_1</collision>
        <topic>/rm_foot_contact</topic>
      </contact>
      <plugin filename="libgazebo_ros_bumper.so" name="fixed_jaw_bumper">
        <bumperTopicName>/corin/foot_wrench/rm</bumperTopicName>
        <frameName>rm_foot</frameName>
      </plugin>
    </sensor>
  </gazebo>
  <!-- Joints -->
  <!-- Coxa joint -->
  <joint name="rr_q1_joint" type="revolute">
    <origin rpy="0 0 -2.26892802759" xyz="-0.115 -0.09 0"/>
    <parent link="trunk"/>
    <child link="rr_hipassembly"/>
    <axis xyz="0 0 1"/>
    <limit effort="2.85" lower="-1.0" upper="1.0" velocity="5.23"/>
    <dynamics damping="0.15" friction="0"/>
    <!-- <safety_controller k_position="100" k_velocity="100"
							   soft_lower_limit="${-7*PI/18}" soft_upper_limit="${5*PI/36}" /> -->
  </joint>
  <!-- Upper leg joint -->
  <joint name="rr_q2_joint" type="revolute">
    <origin rpy="1.57079632679 0 0" xyz="0.06 0 0"/>
    <parent link="rr_hipassembly"/>
    <child link="rr_upperleg"/>
    <axis xyz="0 0 1"/>
    <limit effort="2.85" lower="-2.22" upper="2.22" velocity="5.23"/>
    <dynamics damping="0.15" friction="0"/>
    <!-- <safety_controller k_position="100" k_velocity="100"
							   soft_lower_limit="${-(1+reflect_front)*5*PI/36-(1-reflect_front)*7*PI/36}"
							   soft_upper_limit="${(1-reflect_front)*5*PI/36+(1+reflect_front)*7*PI/36}" /> -->
  </joint>
  <!-- Lower leg joint -->
  <joint name="rr_q3_joint" type="revolute">
    <origin rpy="0 0 0" xyz="0.15 0 0"/>
    <parent link="rr_upperleg"/>
    <child link="rr_lowerleg"/>
    <axis xyz="0 0 1"/>
    <limit effort="2.85" lower="-2.79" upper="2.79" velocity="5.23"/>
    <dynamics damping="0.15" friction="0"/>
    <!-- <safety_controller k_position="100" k_velocity="100"
							   soft_lower_limit="${-(1+reflect_front)*7*PI/18+(1-reflect_front)*PI/18}"
							   soft_upper_limit="${(1-reflect_front)*7*PI/18-(1+reflect_front)*PI/18}" /> -->
  </joint>
  <!-- Foot joint -->
  <joint name="rr_foot_joint" type="fixed">
    <origin rpy="0 0 0" xyz="0.134 0 0"/>
    <parent link="rr_lowerleg"/>
    <child link="rr_foot"/>
  </joint>
  <!-- Links -->
  <!-- Hip assembly link -->
  <link name="rr_hipassembly">
    <visual>
      <origin rpy="0 0 0" xyz="0 0 0"/>
      <geometry>
        <mesh filename="package://mcorin_description/meshes/Coxa.STL" scale="1 1 1"/>
      </geometry>
      <material name="green"/>
    </visual>
    <collision>
      <origin rpy="0 0 0" xyz="0 0 0"/>
      <geometry>
        <mesh filename="package://mcorin_description/meshes/Coxa_collision.STL" scale="1 1 1"/>
      </geometry>
      <material name="orange"/>
    </collision>
    <inertial>
      <origin xyz="0.02471 0 0"/>
      <mass value="0.0406"/>
      <inertia ixx="3.8e-05" ixy="0.0" ixz="0.0" iyy="3.8e-05" iyz="0.0" izz="4e-05"/>
    </inertial>
  </link>
  <!-- Upper leg link -->
  <link name="rr_upperleg">
    <visual>
      <geometry>
        <mesh filename="package://mcorin_description/meshes/Femur.STL" scale="1 1 1"/>
      </geometry>
      <origin rpy="0 0 0" xyz="0 0 0"/>
      <material name="blue"/>
    </visual>
    <collision>
      <geometry>
        <box size="0.15 0.04 0.04"/>
      </geometry>
      <origin rpy="0 0 0" xyz="0.075 0 0"/>
      <material name="colli"/>
    </collision>
    <inertial>
      <mass value="0.35"/>
      <inertia ixx="1.4e-05" ixy="0" ixz="0" iyy="4.7e-05" iyz="0" izz="5.1e-05"/>
      <origin xyz="0.075 0 0"/>
    </inertial>
  </link>
  <!-- Lower leg link -->
  <link name="rr_lowerleg">
    <visual>
      <geometry>
        <mesh filename="package://mcorin_description/meshes/Tibia.STL" scale="1 1 1"/>
      </geometry>
      <origin rpy="1.57079632679 0 0" xyz="0 0 0"/>
      <material name="yellow"/>
    </visual>
    <collision>
      <geometry>
        <mesh filename="package://mcorin_description/meshes/Tibia_collision.STL" scale="1 1 1"/>
        <!-- <box size= "${tibia_cl} ${tibia_d} ${tibia_w}"/> -->
      </geometry>
      <origin rpy="1.57079632679 0 0" xyz="0.0 0 0"/>
      <material name="colli"/>
    </collision>
    <inertial>
      <mass value="0.076"/>
      <inertia ixx="2.5e-05" ixy="0" ixz="0" iyy="0.000105" iyz="0" izz="0.000117"/>
      <origin xyz="0.0887 0 0"/>
    </inertial>
  </link>
  <!-- Foot link -->
  <link name="rr_foot">
    <visual>
      <geometry>
        <sphere radius="0.016"/>
      </geometry>
      <origin rpy="0 0 0" xyz="0 0 0"/>
      <material name="blue"/>
    </visual>
    <collision>
      <geometry>
        <sphere radius="0.016"/>
      </geometry>
      <origin rpy="0 0 0" xyz="0 0 0"/>
      <material name="colli"/>
    </collision>
    <inertial>
      <mass value="0.04"/>
      <inertia ixx="4e-06" ixy="0" ixz="0" iyy="4e-06" iyz="0" izz="4e-06"/>
      <origin xyz="0 0 0"/>
    </inertial>
  </link>
  <!-- Hip assembly -->
  <transmission name="rr_q1_trans">
    <type>transmission_interface/SimpleTransmission</type>
    <joint name="rr_q1_joint">
      <hardwareInterface>EffortJointInterface</hardwareInterface>
    </joint>
    <actuator name="rr_q1_motor">
      <hardwareInterface>EffortJointInterface</hardwareInterface>
      <mechanicalReduction>200</mechanicalReduction>
    </actuator>
  </transmission>
  <!-- Upper leg -->
  <transmission name="rr_q2_trans">
    <type>transmission_interface/SimpleTransmission</type>
    <joint name="rr_q2_joint">
      <hardwareInterface>EffortJointInterface</hardwareInterface>
    </joint>
    <actuator name="rr_q2_motor">
      <hardwareInterface>EffortJointInterface</hardwareInterface>
      <mechanicalReduction>200</mechanicalReduction>
    </actuator>
  </transmission>
  <!-- Lower leg -->
  <transmission name="rr_q3_trans">
    <type>transmission_interface/SimpleTransmission</type>
    <joint name="rr_q3_joint">
      <hardwareInterface>EffortJointInterface</hardwareInterface>
    </joint>
    <actuator name="rr_q3_motor">
      <hardwareInterface>EffortJointInterface</hardwareInterface>
      <mechanicalReduction>200</mechanicalReduction>
    </actuator>
  </transmission>
  <gazebo reference="rr_q1_joint">
    <provideFeedback>true</provideFeedback>
  </gazebo>
  <gazebo reference="rr_q2_joint">
    <provideFeedback>true</provideFeedback>
  </gazebo>
  <gazebo reference="rr_q3_joint">
    <provideFeedback>true</provideFeedback>
  </gazebo>
  <gazebo reference="rr_hipassembly">
    <kp>1000000.0</kp>
    <kd>100.0</kd>
    <mu1>1.5</mu1>
    <mu2>1.5</mu2>
    <!-- <fdir1>1 0 0</fdir1> -->
    <maxVel>0.001</maxVel>
    <minDepth>0.00</minDepth>
    <material>Gazebo/White</material>
  </gazebo>
  <gazebo reference="rr_upperleg">
    <kp>1000000.0</kp>
    <kd>100.0</kd>
    <mu1>1.5</mu1>
    <mu2>1.5</mu2>
    <!-- <fdir1>1 0 0</fdir1> -->
    <maxVel>0.001</maxVel>
    <minDepth>0.00</minDepth>
    <material>Gazebo/DarkGrey</material>
  </gazebo>
  <gazebo reference="rr_lowerleg">
    <kp>1000000.0</kp>
    <kd>100.0</kd>
    <mu1>1.5</mu1>
    <mu2>1.5</mu2>
    <!-- <fdir1>1 0 0</fdir1> -->
    <maxVel>0.001</maxVel>
    <minDepth>0.00</minDepth>
    <material>Gazebo/White</material>
  </gazebo>
  <gazebo reference="rr_foot">
    <kp>1000000.0</kp>
    <kd>100.0</kd>
    <mu1>1.5</mu1>
    <mu2>1.5</mu2>
    <!-- <fdir1>1 0 0</fdir1> -->
    <maxVel>0.001</maxVel>
    <minDepth>0.00</minDepth>
    <material>Gazebo/Black</material>
  </gazebo>
  <gazebo reference="rr_foot">
    <!-- contact sensor -->
    <sensor name="foot_contact" type="contact">
      <update_rate>100.0</update_rate>
      <always_on>1</always_on>
      <contact>
        <collision>rr_lowerleg_fixed_joint_lump__rr_foot_collision_1</collision>
        <topic>/rr_foot_contact</topic>
      </contact>
      <plugin filename="libgazebo_ros_bumper.so" name="fixed_jaw_bumper">
        <bumperTopicName>/corin/foot_wrench/rr</bumperTopicName>
        <frameName>rr_foot</frameName>
      </plugin>
    </sensor>
  </gazebo>
  <!-- Joint -->
  <joint name="trunk_imu_joint" type="fixed">
    <origin rpy="0 0 0" xyz="0.0 0.0 0.0"/>
    <parent link="trunk"/>
    <child link="trunk_imu"/>
  </joint>
  <!-- Link -->
  <link name="trunk_imu">
    <inertial>
      <origin xyz="-0.00020  0.00010  0.00110"/>
      <mass value="0.010"/>
      <inertia ixx="0.0" ixy="0.0" ixz="0.0" iyy="0.0" iyz="0.0" izz="0.0"/>
    </inertial>
    <visual>
      <origin rpy="0 0 0" xyz="0.0 0 0.0"/>
      <geometry>
        <box size="0.05 0.05 0.01"/>
      </geometry>
      <material name="black">
        <color rgba="0 0 0 0.9"/>
      </material>
    </visual>
  </link>
  <gazebo>
    <material>Gazebo/Red</material>
    <plugin filename="libgazebo_ros_imu.so" name="imu_plugin">
      <robotNamespace>/corin/imu/</robotNamespace>
      <alwaysOn>true</alwaysOn>
      <frameName>trunk_imu</frameName>
      <bodyName>trunk_imu</bodyName>
      <topicName>trunk/data</topicName>
      <serviceName>trunk/service</serviceName>
      <gaussianNoise>0.001</gaussianNoise>
      <updateRate>100</updateRate>
    </plugin>
  </gazebo>
  <!-- <xacro:LIDAR
		parent="trunk"
		lidar_name="trunk_lidar"
		lidar_topic="lidar/data"
		update_rate="100">
		<origin xyz="0.12 0.0 0.03" rpy="0 0 0"/>
	</xacro:LIDAR> -->
</robot>
